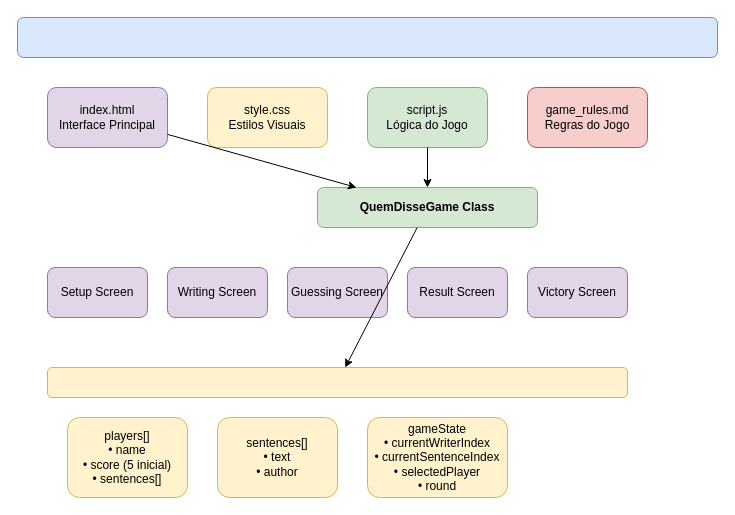
Some shapes in this 735 by 515 pixel diagram are drawn without their labels. Each missing label, with the centre of its shape:
"Estrutura de Dados" belongs at [337,382].
"Frontend (Browser)" belongs at [367,37].
